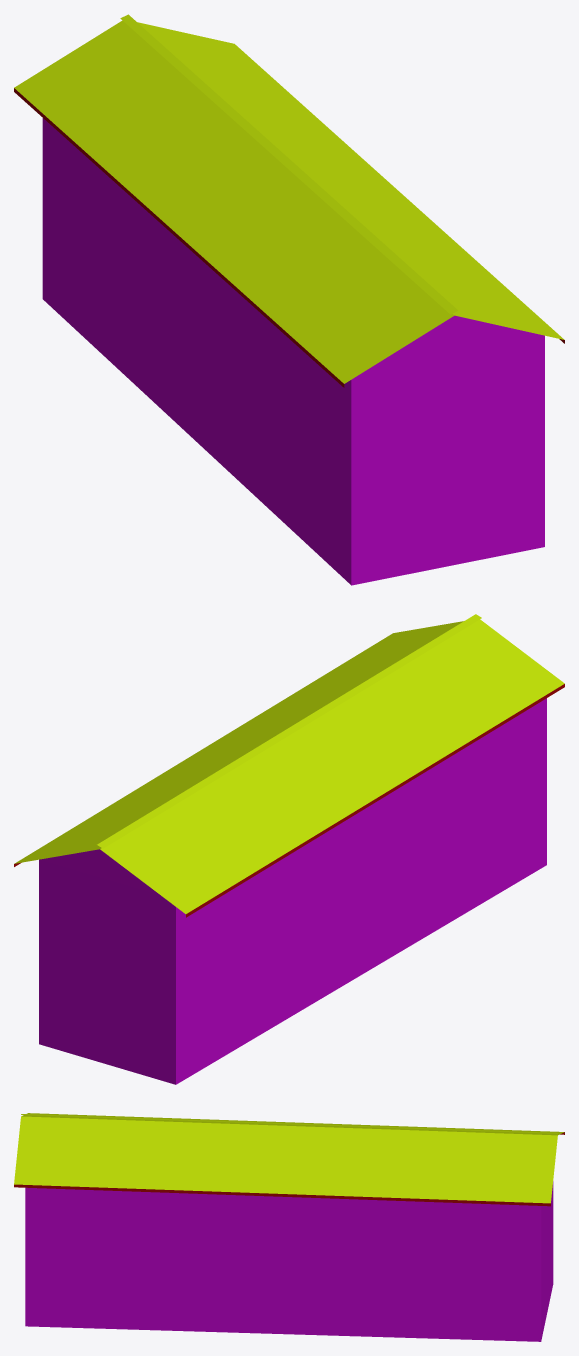
The model's file is hangar_ferme_11.glb.
The picture shows the model from 3 angles, top to bottom: view 1: azimuth 30°, elevation 25°; view 2: azimuth 150°, elevation 25°; view 3: azimuth 270°, elevation 25°; orthographic projection. The views are drawn at different scales.
Visible parts, largest first — view 1: hangar_ferme_11; view 2: hangar_ferme_11; view 3: hangar_ferme_11.
Boxes of the visible parts, x1,y1,x2,y2 form: hangar_ferme_11: (14,14,564,585); hangar_ferme_11: (14,614,564,1084); hangar_ferme_11: (14,1113,564,1341).
Bounding box in the file's own units: 8.2 × 7.66 × 21.13.
